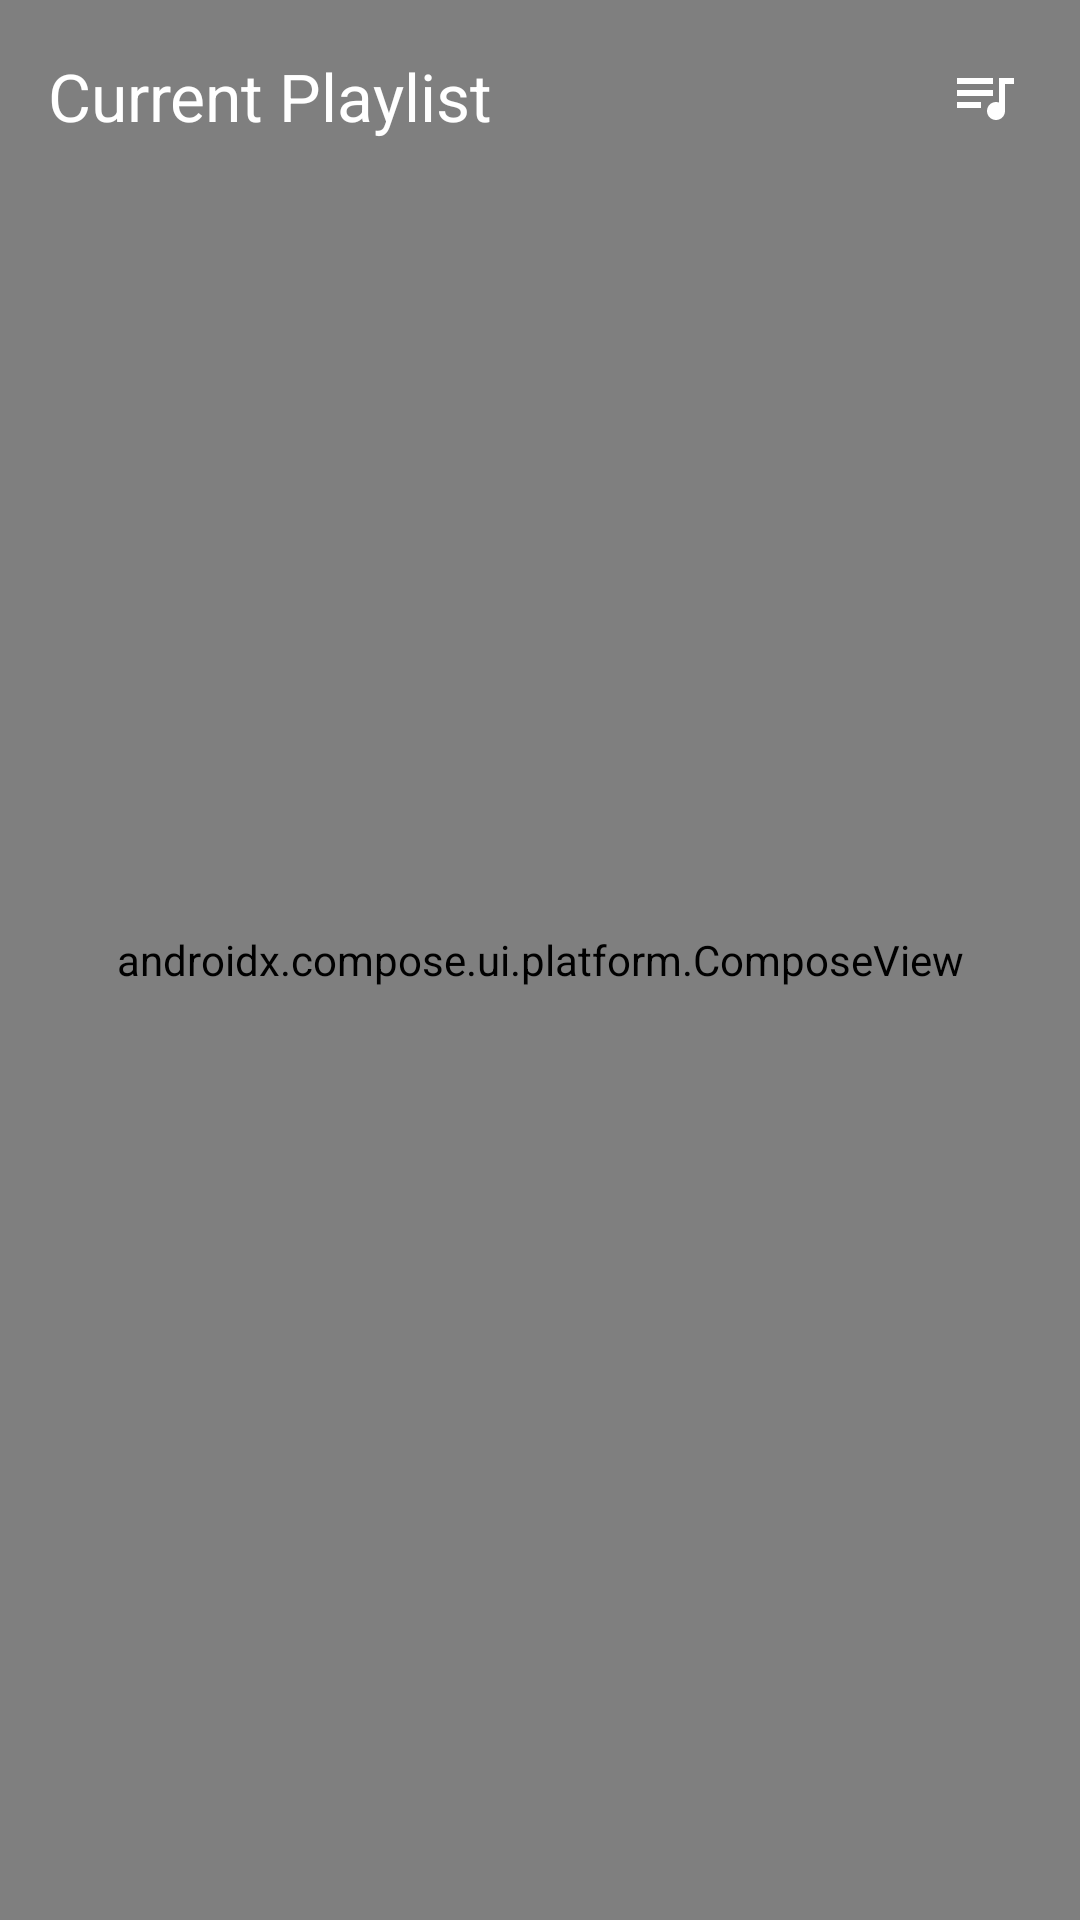

Where icons sit on this 1080px x 1920px app screen, as [x1=x1, y1=y1, x2=x2, y2=y2]:
Playlists: [x1=957, y1=78, x2=1014, y2=120]
